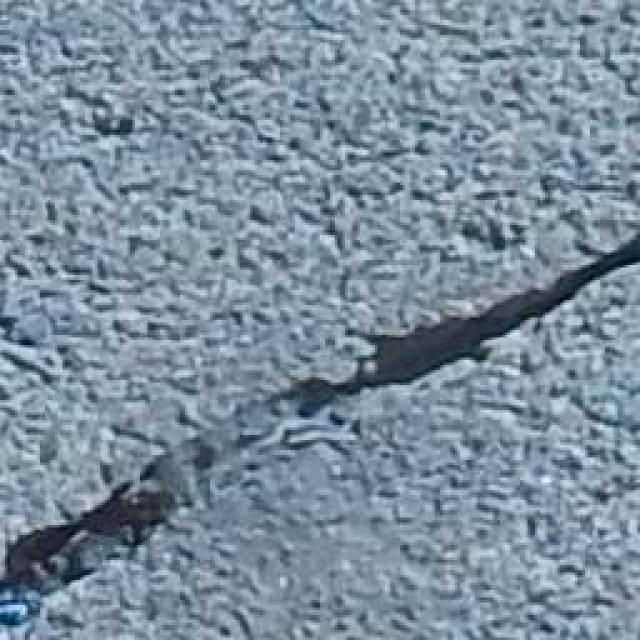concrete-crack: (0, 236, 638, 640)
